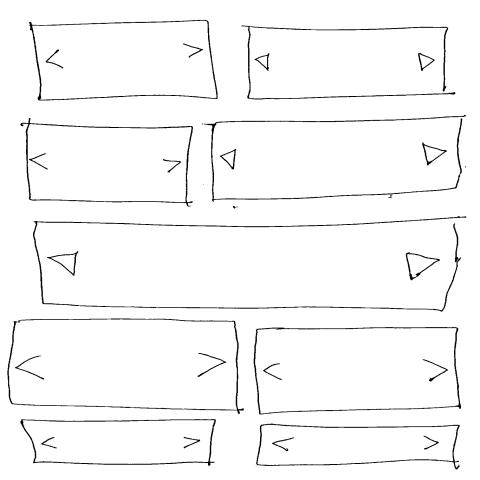Carousel: (34, 217, 467, 313), (9, 319, 245, 415), (209, 116, 466, 203), (254, 328, 462, 415), (240, 26, 456, 100), (29, 21, 220, 101), (21, 119, 194, 207), (257, 425, 460, 470), (21, 420, 216, 466)
